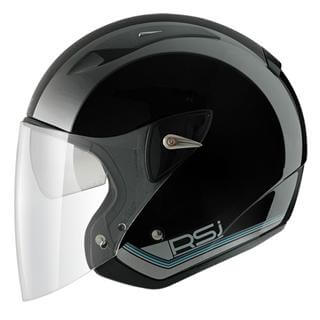with_helmet: (13, 11, 311, 307)
